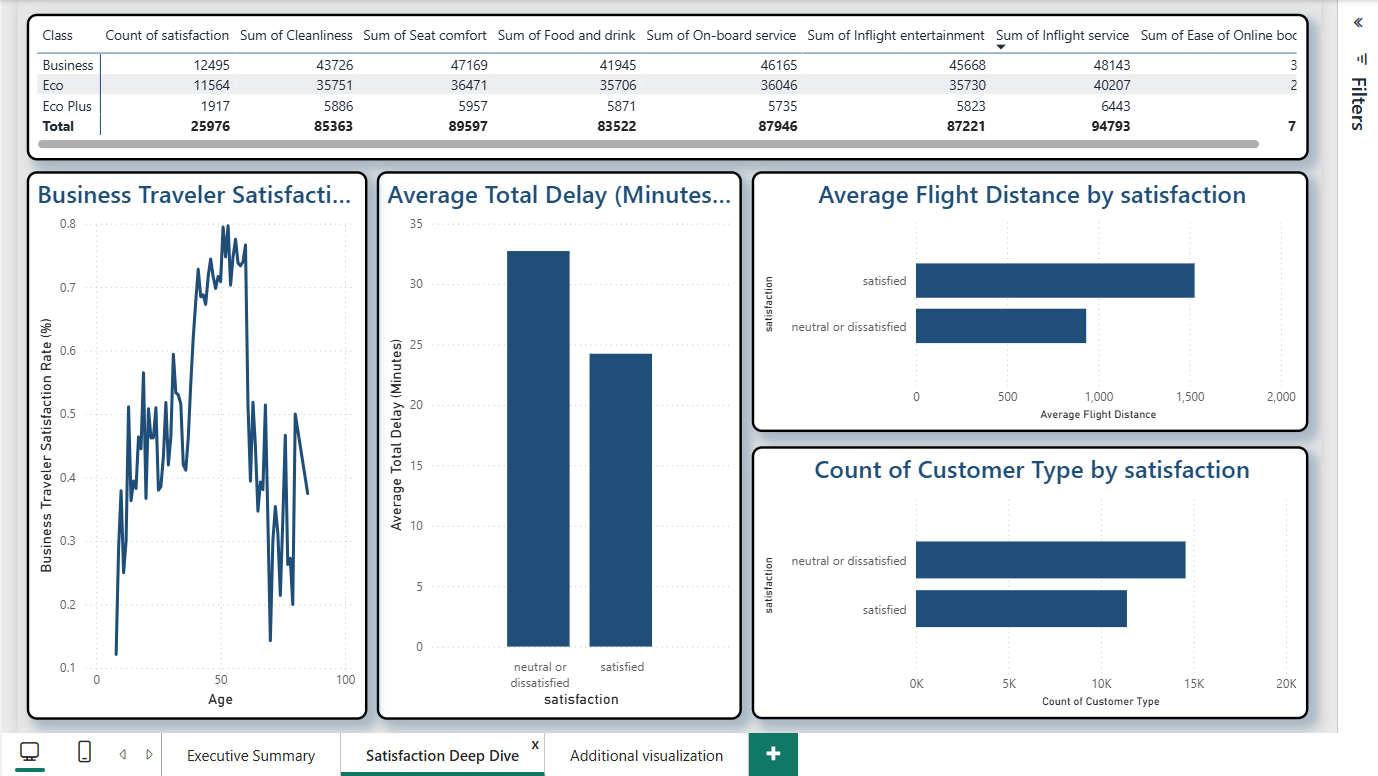

Layout of this report page (visuals, bound fields, positions):
{"tool":"powerbi","page":{"name":"Satisfaction Deep Dive","canvas":[1280,720],"ordinal":1},"visuals":[{"type":"pivotTable","fields":{"Rows":["Dim_Flight.Class"],"Values":["CountNonNull(Dim_Service.satisfaction)","Sum(Dim_Service.Cleanliness)","Sum(Dim_Service.Seat comfort)","Sum(Dim_Service.Food and drink)","Sum(Dim_Service.On-board service)","Sum(Dim_Service.Inflight entertainment)","Sum(Dim_Service.Inflight service)","Sum(Dim_Service.Ease of Online booking)"]},"box":[8,14,1258,144],"z":0},{"type":"columnChart","fields":{"Category":["Dim_Service.satisfaction"],"Y":["Fact_Satisfaction.Average Total Delay (Minutes)"]},"box":[352,168,358,538],"z":1000},{"type":"clusteredBarChart","fields":{"Category":["Dim_Service.satisfaction"],"Y":["CountNonNull(Dim_Passenger.Customer Type)"]},"box":[720,438,546,268],"z":2000},{"type":"barChart","fields":{"Category":["Dim_Service.satisfaction"],"Y":["Fact_Satisfaction.Average Flight Distance"]},"box":[720,168,546,256],"z":3000},{"type":"lineChart","fields":{"Category":["Dim_Passenger.Age"],"Y":["Fact_Satisfaction.Business Traveler Satisfaction Rate (%)"]},"box":[8,168,334,538],"z":4000}]}

Visuals, with their boxes in screenshot pixels (x1, y1, x2, y2):
pivotTable - Dim_Flight.Class x CountNonNull(Dim_Service.satisfaction): {"left": 19, "top": 7, "right": 1307, "bottom": 155}
columnChart - Dim_Service.satisfaction x Fact_Satisfaction.Average Total Delay (Minutes): {"left": 371, "top": 165, "right": 738, "bottom": 716}
clusteredBarChart - Dim_Service.satisfaction x CountNonNull(Dim_Passenger.Customer Type): {"left": 748, "top": 441, "right": 1307, "bottom": 716}
barChart - Dim_Service.satisfaction x Fact_Satisfaction.Average Flight Distance: {"left": 748, "top": 165, "right": 1307, "bottom": 427}
lineChart - Dim_Passenger.Age x Fact_Satisfaction.Business Traveler Satisfaction Rate (%): {"left": 19, "top": 165, "right": 361, "bottom": 716}
